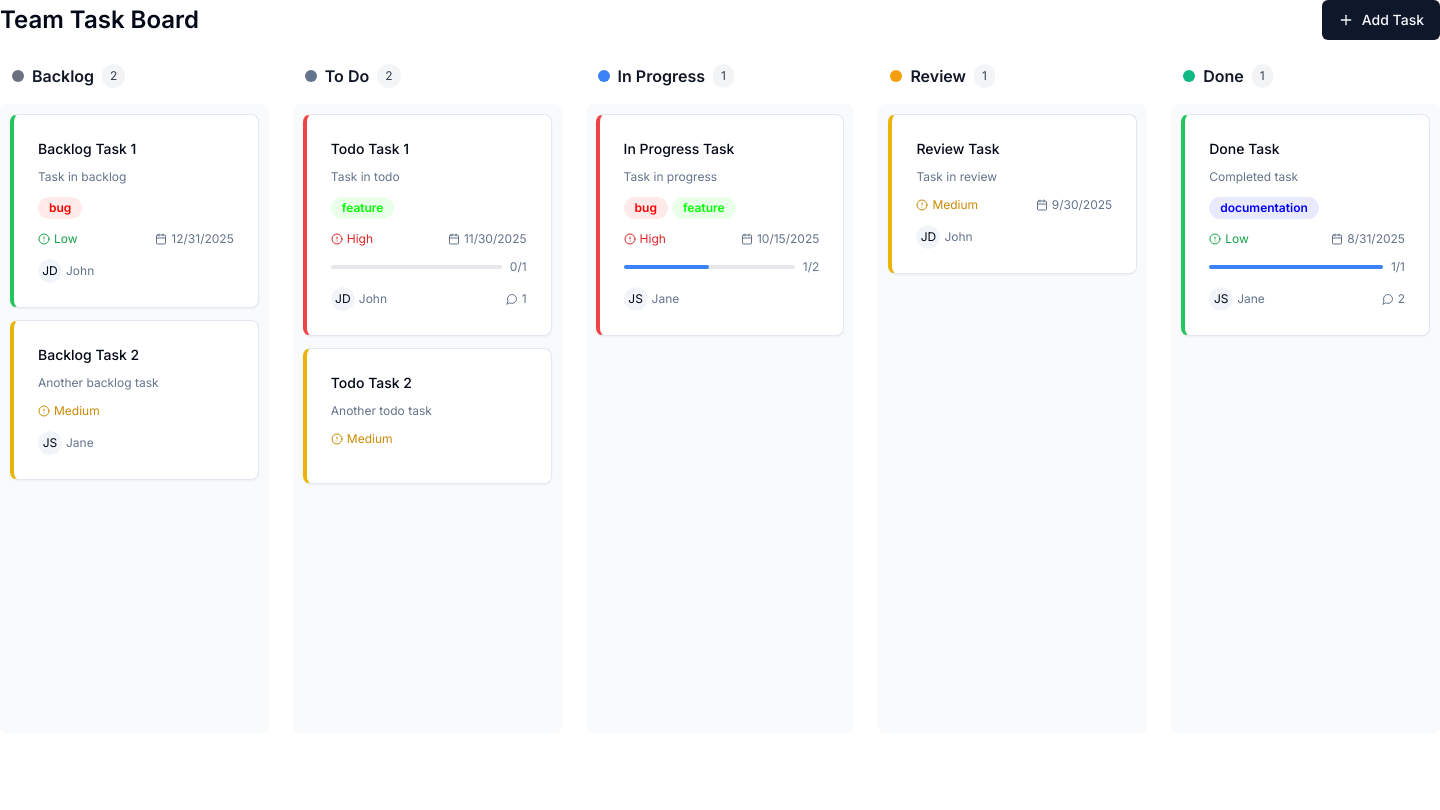
KanbanBoard - 100% Coverage Tests › Task Modal › opens create modal when Add Task button is clicked
This screenshot has width=1440, height=810.
Click the button "Add Task" at (1381, 20), box [1322,0,1439,40]
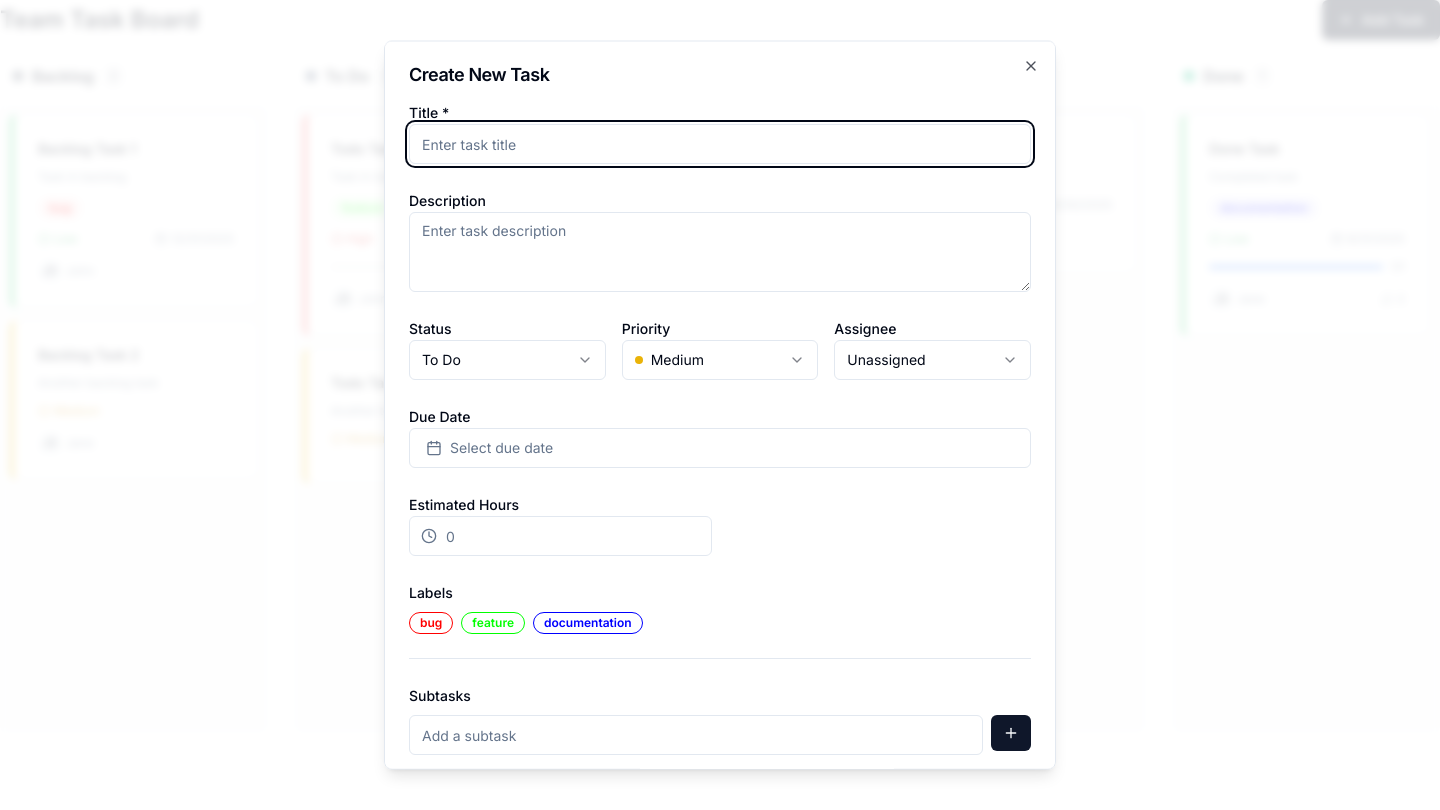
Now the dialog is shown, box [384,40,1056,770]
